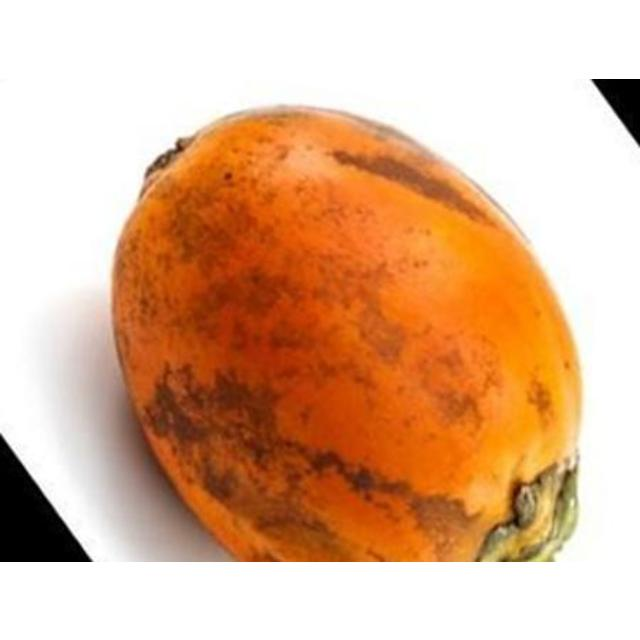good: (110, 106, 585, 560)
